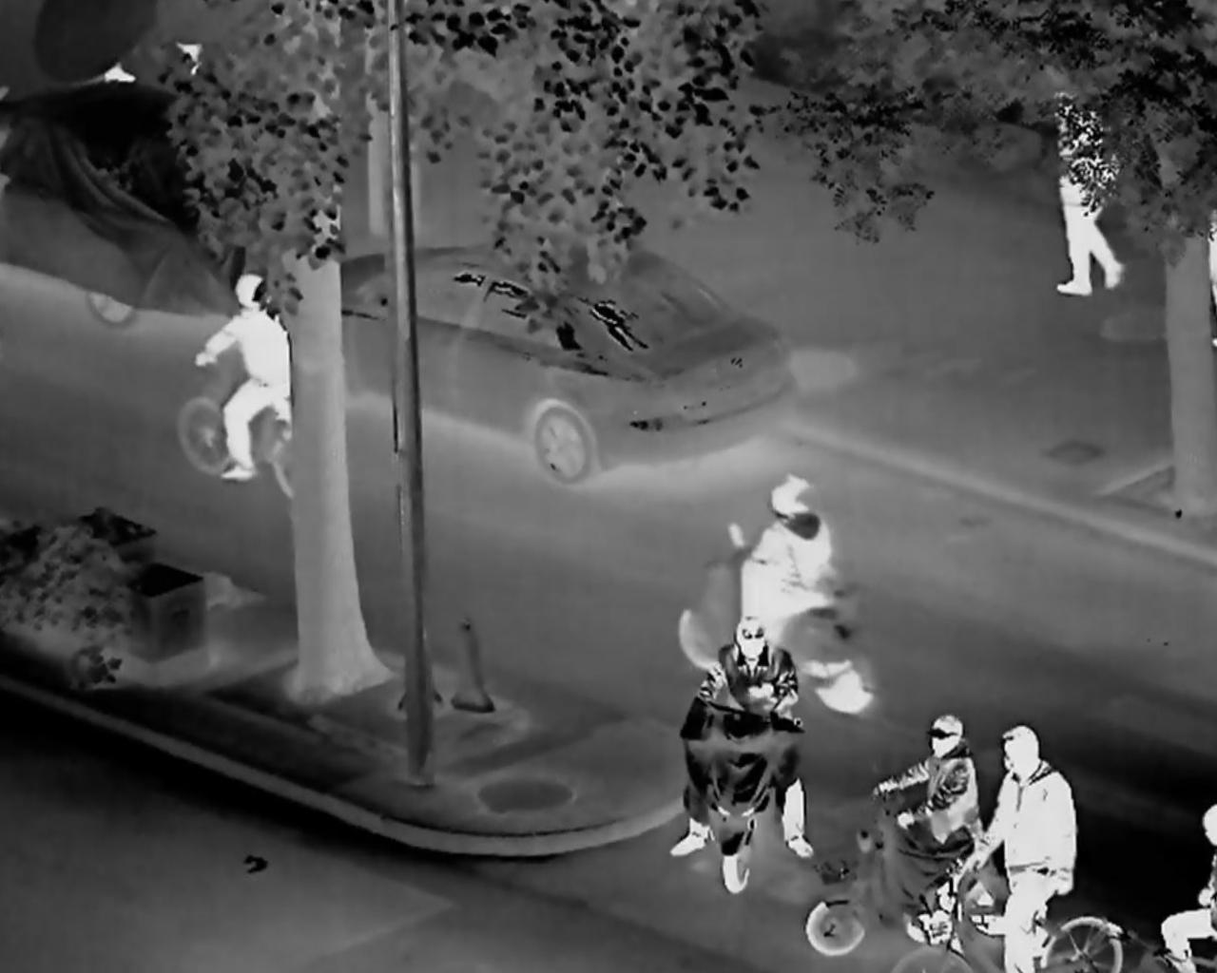person: (668, 612, 815, 868), (969, 722, 1102, 972), (725, 465, 860, 695), (192, 275, 316, 500), (867, 709, 989, 926), (1052, 78, 1149, 317)
